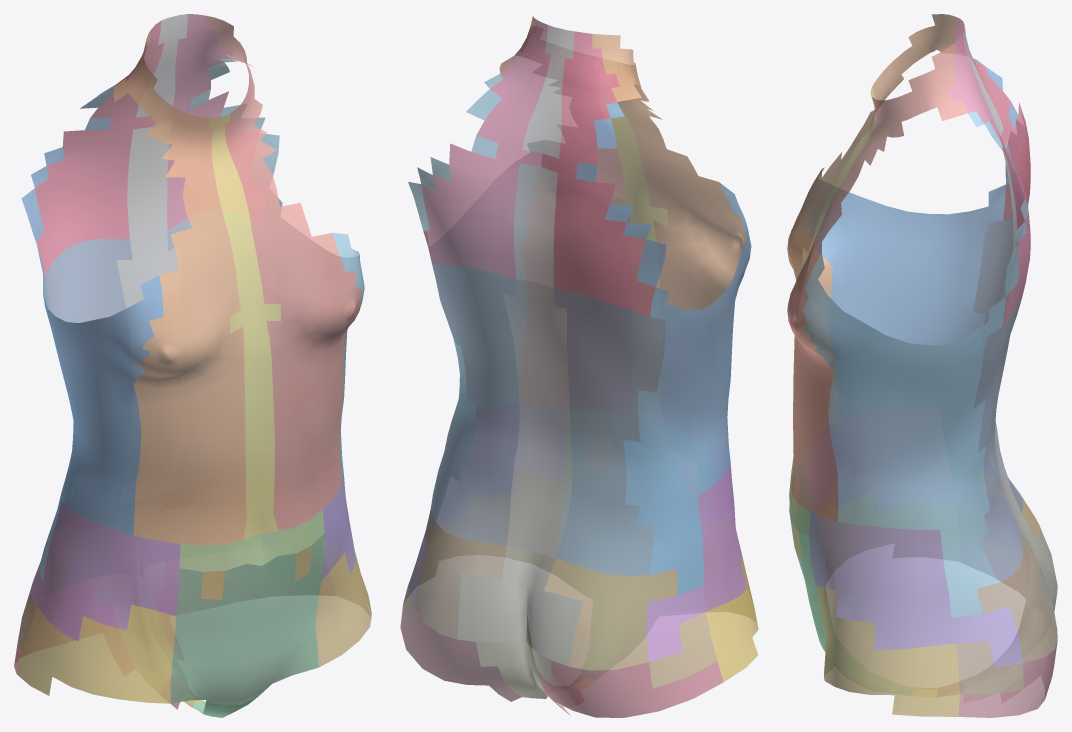
File: neutro_body_v1_torso_pelvis_interaction.glb
The picture shows the model from 3 angles, left to right: view 1: azimuth 30°, elevation 25°; view 2: azimuth 150°, elevation 25°; view 3: azimuth 270°, elevation 25°; orthographic projection.
Parts seen in each view (by area): view 1: zone_right_chest, zone_left_chest, zone_left_ribs, zone_left_mid_back, zone_right_ribs, zone_lower_abdomen, zone_right_mid_back, zone_mid_back_center, zone_right_flank, zone_right_scapula, zone_left_scapula, zone_right_hip (+11 smaller); view 2: zone_left_chest, zone_lower_abdomen, zone_right_ribs, zone_right_chest, zone_left_ribs, zone_right_mid_back, zone_left_mid_back, zone_right_scapula, zone_left_scapula, zone_mid_back_center, zone_right_lower_back, zone_left_flank (+11 smaller); view 3: zone_left_ribs, zone_right_ribs, zone_left_flank, zone_right_flank, zone_left_chest, zone_right_chest, zone_left_hip, zone_right_hip, zone_left_lower_back, zone_left_mid_back, zone_lower_abdomen, zone_right_mid_back (+11 smaller).
Boxes of the visible parts, x1,y1,x2,y2 form: zone_right_chest: (113, 29, 246, 545); zone_left_chest: (205, 15, 362, 531); zone_left_ribs: (189, 59, 364, 514); zone_left_mid_back: (167, 211, 278, 490); zone_right_ribs: (21, 84, 163, 581); zone_lower_abdomen: (170, 533, 324, 717); zone_right_mid_back: (45, 239, 132, 534); zone_mid_back_center: (116, 230, 185, 502); zone_right_flank: (23, 501, 180, 641); zone_right_scapula: (35, 20, 164, 275); zone_left_scapula: (155, 14, 268, 229); zone_right_hip: (17, 570, 225, 707); zone_left_chest: (499, 16, 632, 415); zone_lower_abdomen: (557, 431, 710, 680); zone_right_ribs: (576, 102, 751, 595); zone_right_chest: (592, 34, 748, 453); zone_left_ribs: (408, 74, 549, 522); zone_right_mid_back: (554, 288, 665, 576); zone_left_mid_back: (432, 263, 519, 545); zone_right_scapula: (541, 31, 655, 316); zone_left_scapula: (421, 20, 550, 278); zone_mid_back_center: (503, 279, 572, 557); zone_right_lower_back: (544, 558, 717, 688); zone_left_flank: (408, 404, 566, 603); zone_left_ribs: (802, 111, 1028, 617); zone_right_ribs: (803, 58, 1026, 491); zone_left_flank: (809, 512, 1022, 667); zone_right_flank: (809, 407, 1021, 547); zone_left_chest: (787, 43, 967, 521); zone_right_chest: (787, 14, 965, 459); zone_left_hip: (791, 523, 959, 716); zone_right_hip: (793, 480, 959, 688); zone_left_lower_back: (956, 538, 1057, 694); zone_left_mid_back: (973, 273, 1023, 582); zone_lower_abdomen: (789, 467, 914, 695); zone_right_mid_back: (973, 219, 1022, 513).
Bounding box in the file's own units: 0.3713 × 0.7323 × 0.2657.
